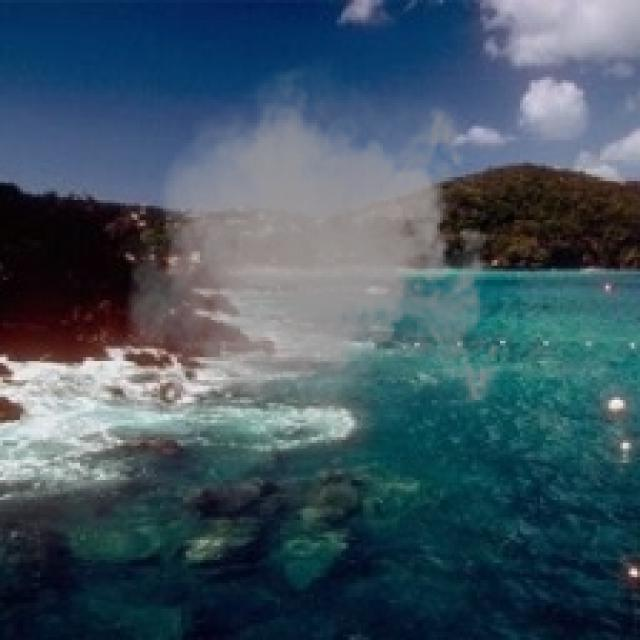Smoke: (120, 46, 512, 466)
